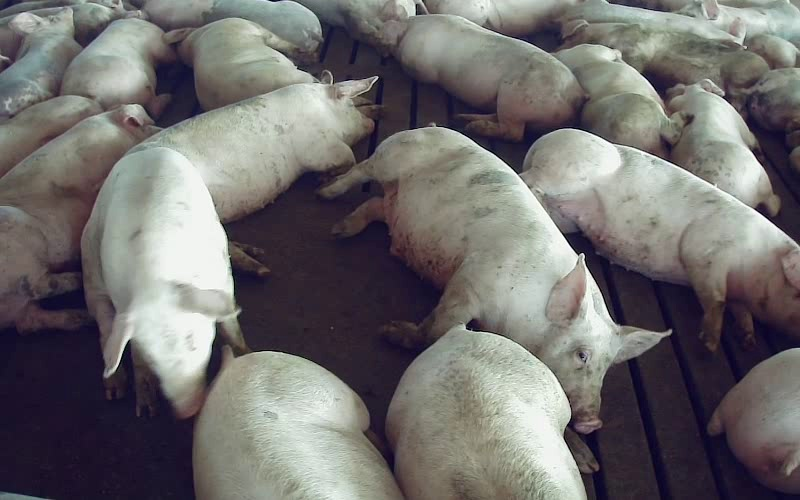pig: (320, 127, 665, 431), (82, 147, 248, 417), (0, 105, 158, 332), (386, 325, 585, 499), (193, 346, 402, 499), (382, 15, 583, 140), (666, 79, 780, 215), (562, 19, 768, 92), (554, 44, 685, 158), (165, 18, 316, 110), (60, 18, 176, 117), (142, 0, 322, 58), (0, 7, 81, 118), (0, 95, 102, 176)
